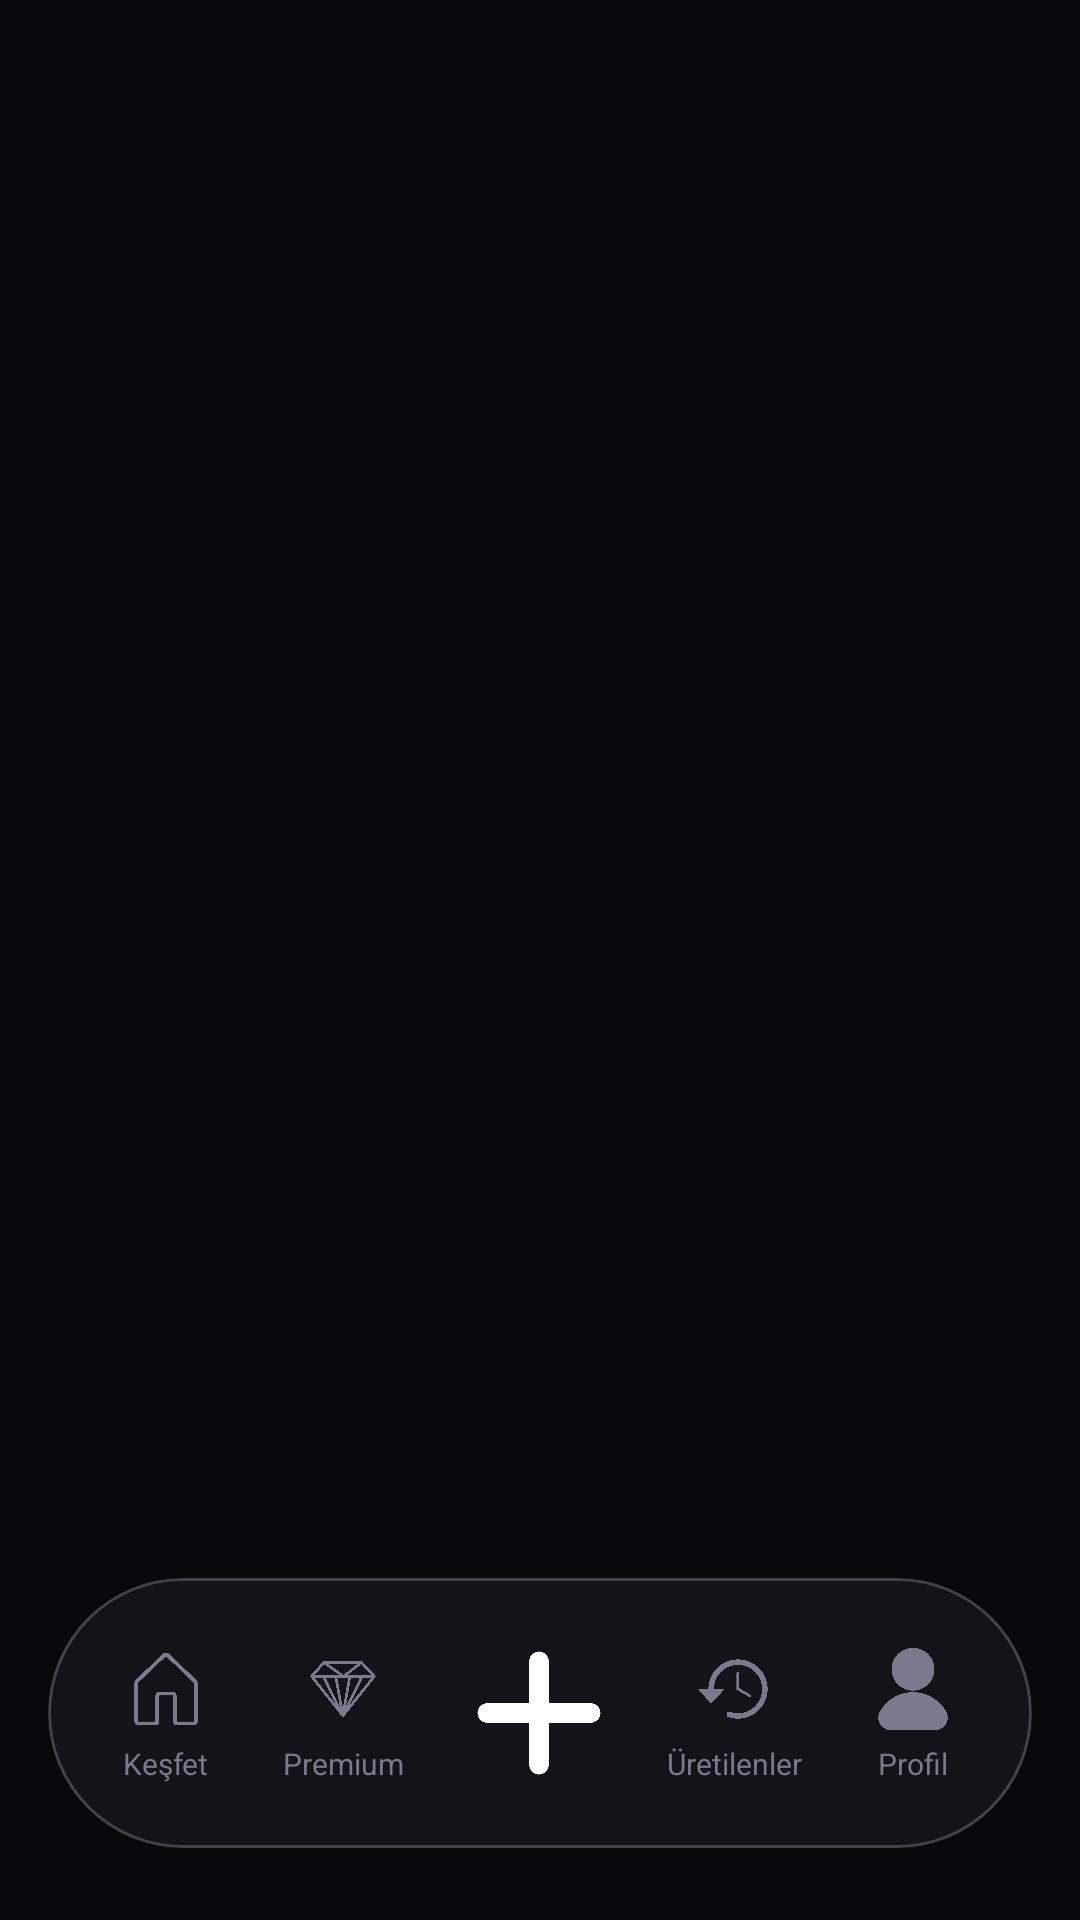

Locate icon controls on the screen. Image size 1080 × 1920, boxes as {"left": x1, "top": y1, "right": x2, "bottom": y2}.
custom add: {"left": 477, "top": 1651, "right": 601, "bottom": 1775}
custom diamond: {"left": 310, "top": 1661, "right": 376, "bottom": 1717}
custom history: {"left": 699, "top": 1659, "right": 768, "bottom": 1719}
custom home: {"left": 134, "top": 1653, "right": 198, "bottom": 1725}
